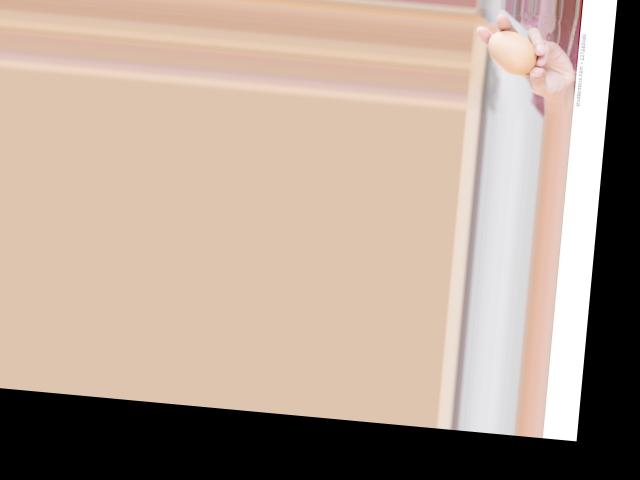egg: (485, 28, 538, 75)
